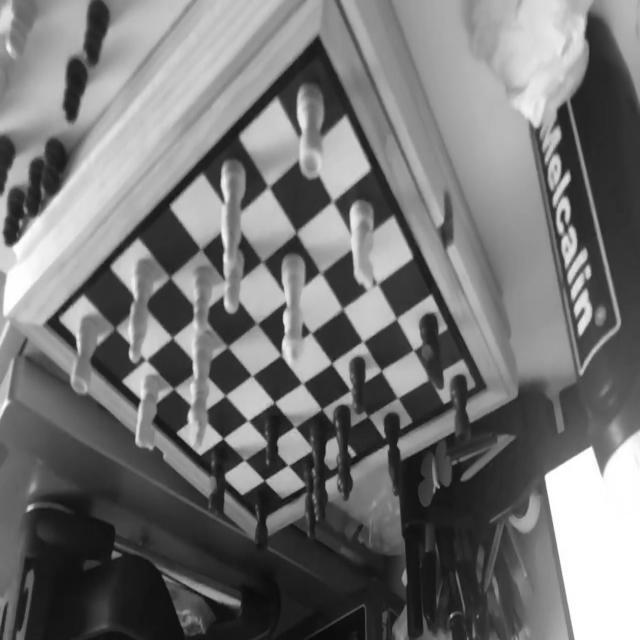chess-table-corners: (32, 309, 60, 347), (308, 18, 328, 60), (478, 378, 495, 403)
